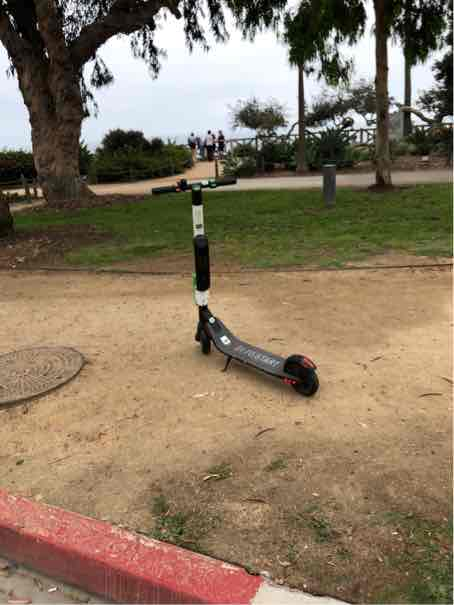scooter: (148, 176, 327, 403)
